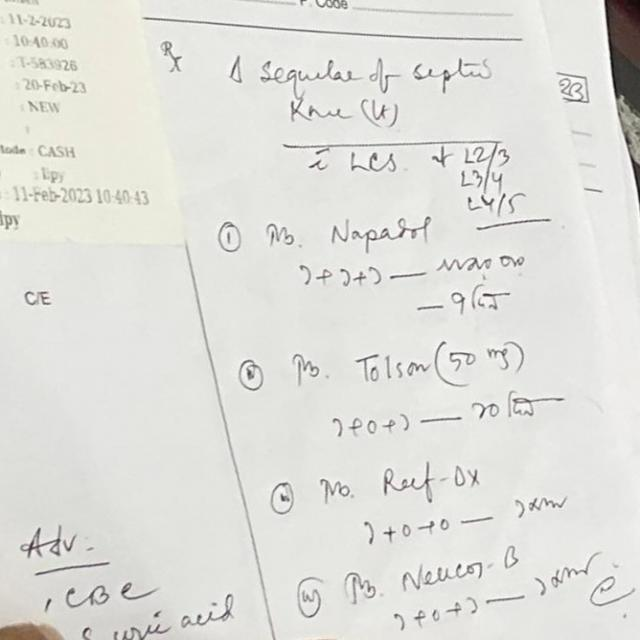Napadol: (322, 214, 440, 250)
Neucos B: (386, 544, 530, 590)
Reef DX: (372, 459, 489, 504)
Tolson: (354, 347, 434, 390)
